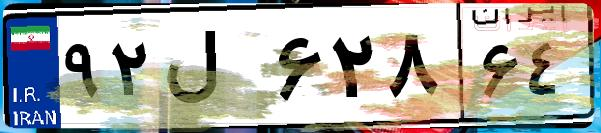2: (330, 28, 385, 110), (110, 28, 158, 98)
4: (525, 38, 570, 115)
6: (270, 28, 330, 110), (475, 38, 525, 113)
8: (385, 28, 445, 110)
9: (57, 26, 110, 100)
ل: (158, 20, 270, 120)
